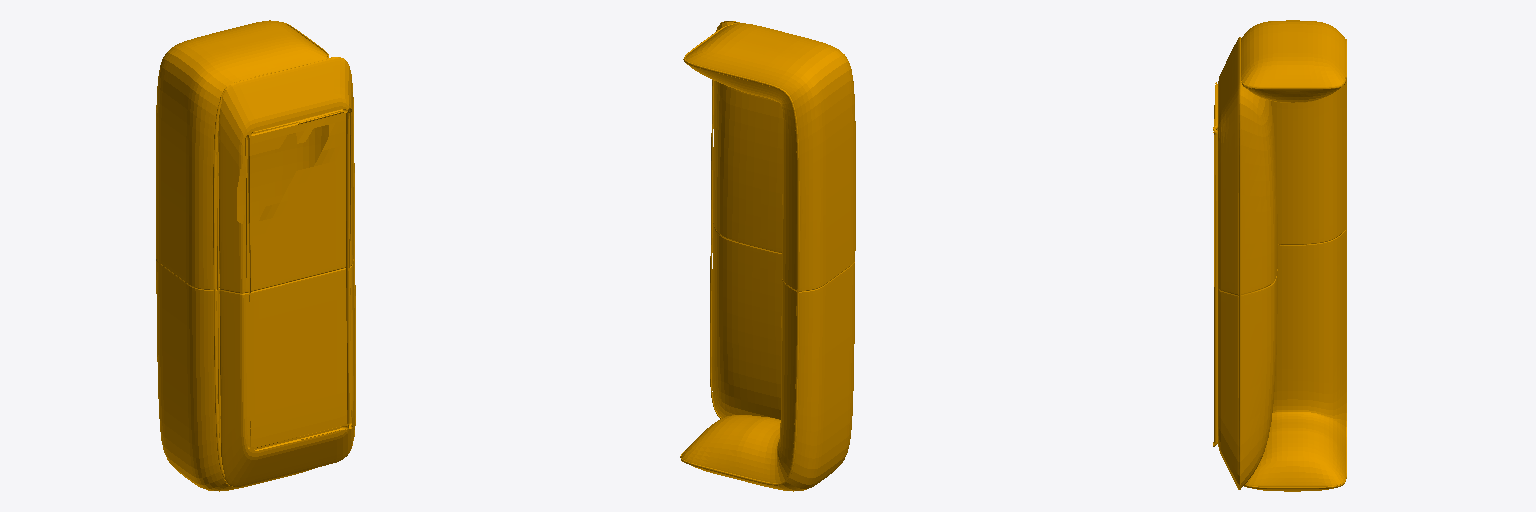
URDF robot description (sofa):
<?xml version="1.0"?>
<robot name="sofa">
  <link name="sofa_link">
    <origin xyz="0 0 0" rpy="0 0 0"/>
    <visual>
      <geometry>
        <mesh filename="sofa.obj" scale="1 1 1"/>
      </geometry>
      <material name="sofa_material">
        <texture filename="[local-path]/下载/IsaacGym_Preview_4_Package/unitree_rl_gym/test/sofa/textures/Archisketch_BOLIA_Frame_Gray_baseColor.png"/>
      </material>
    </visual>
    <collision>
      <origin xyz="0 0 0" rpy="0 0 0"/>
      <geometry>
        <mesh filename="sofa.obj" scale="1 1 1"/>
      </geometry>
    </collision>
  </link>
</robot>

--- Facts derived from the render (not from the file) ---
3 views of the same robot in one strip: view 1: azimuth 30°, elevation 25°; view 2: azimuth 150°, elevation 25°; view 3: azimuth 270°, elevation 25° (orthographic).
Robot: sofa — 1 links, 0 joints (none); root link sofa_link; default pose: all joints at 0.
Links seen in each view (by area): view 1: sofa_link; view 2: sofa_link; view 3: sofa_link.
Link boxes in pixels (bbox=[...]): sofa_link: bbox=[156, 20, 355, 491]; sofa_link: bbox=[680, 21, 855, 491]; sofa_link: bbox=[1213, 20, 1346, 491].
Bounding box of the posed robot: 0.8369 × 0.6306 × 2.22 m (x, y, z).
1 mesh visuals loaded from 1 distinct referenced files (1 OBJ).